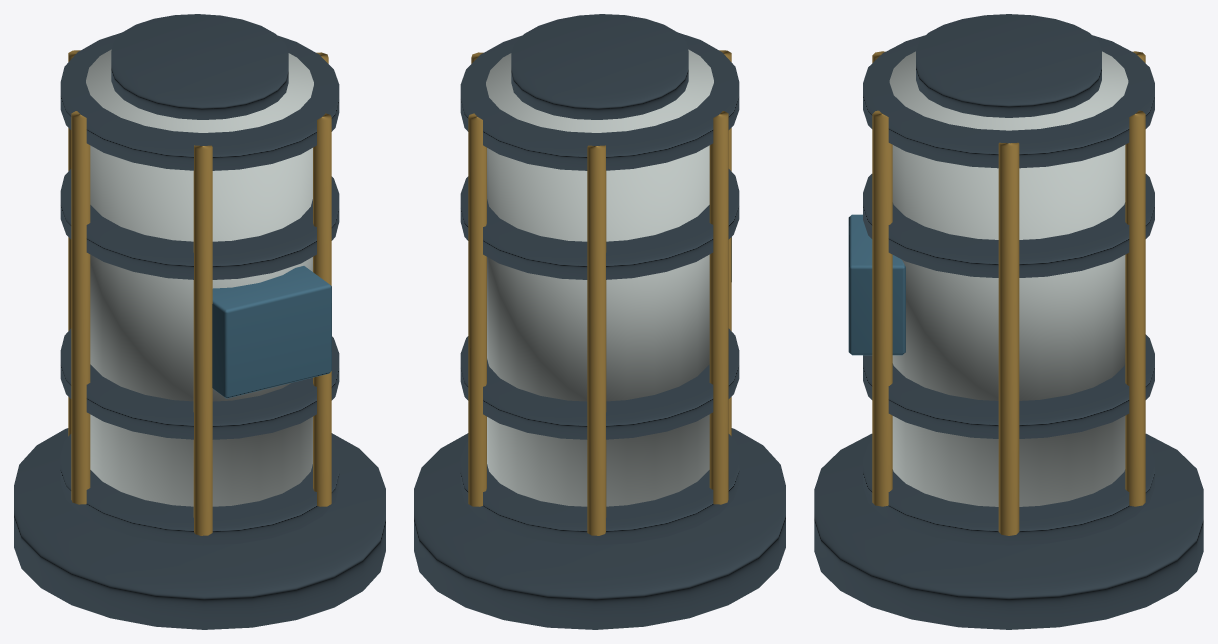
The model's file is S083_fake_reactor_rebuilt.glb.
3 renders of one model, left to right at view 1: azimuth 30°, elevation 25°; view 2: azimuth 150°, elevation 25°; view 3: azimuth 270°, elevation 25°, orthographic.
Visible parts, largest first — view 1: shell, silver, gold, blue; view 2: shell, silver, gold; view 3: shell, silver, gold, blue.
Part boxes in pixels (<box>): shell: <box>14,14,385,629</box>; silver: <box>86,49,313,506</box>; gold: <box>68,50,331,535</box>; blue: <box>212,266,331,398</box>; shell: <box>414,14,785,629</box>; silver: <box>486,49,713,506</box>; gold: <box>468,50,731,535</box>; shell: <box>814,14,1203,629</box>; silver: <box>889,51,1128,506</box>; gold: <box>872,51,1145,535</box>; blue: <box>848,214,905,355</box>.
Bounding box in the file's own units: 1.54 × 2.3 × 1.62.
